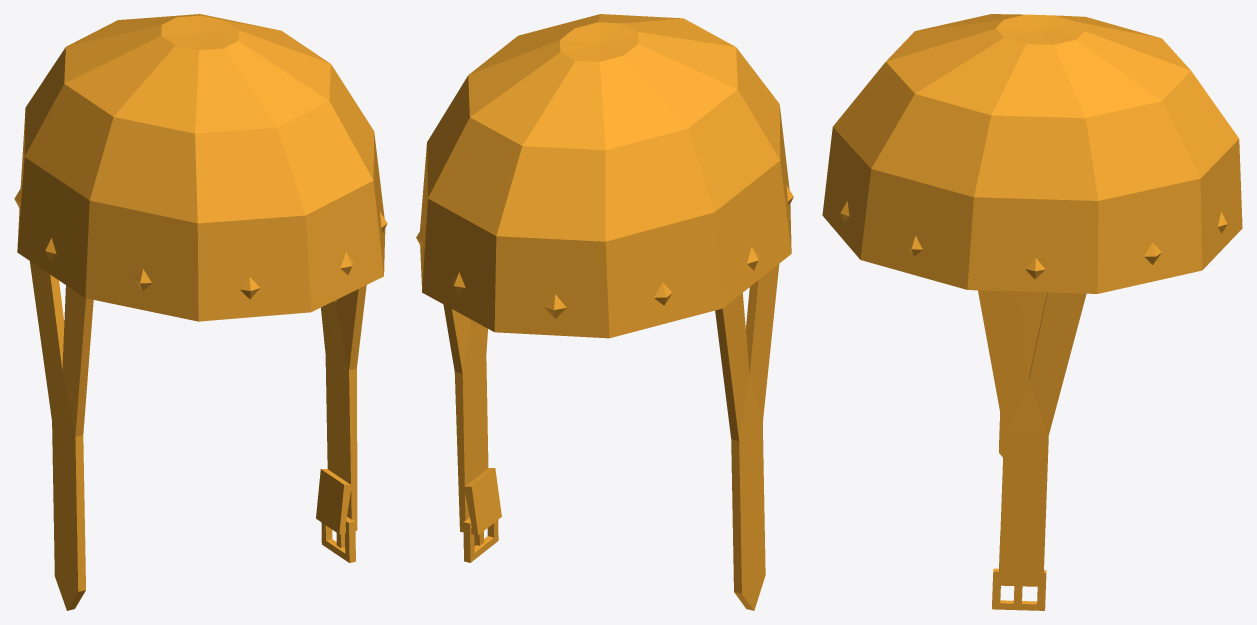
File: SM_Helmet_Skull_Cap.fbx
3 views of the same model, side by side, from view 1: azimuth 30°, elevation 25°; view 2: azimuth 150°, elevation 25°; view 3: azimuth 270°, elevation 25° (orthographic). The views are drawn at different scales.
Visible parts, largest first — view 1: helmet-skull-cap; view 2: helmet-skull-cap; view 3: helmet-skull-cap.
Part boxes in pixels (<box>): helmet-skull-cap: <box>14,14,387,610</box>; helmet-skull-cap: <box>416,14,793,610</box>; helmet-skull-cap: <box>822,14,1242,610</box>.
Bounding box in the file's own units: 0.2157 × 0.3659 × 0.2671.
